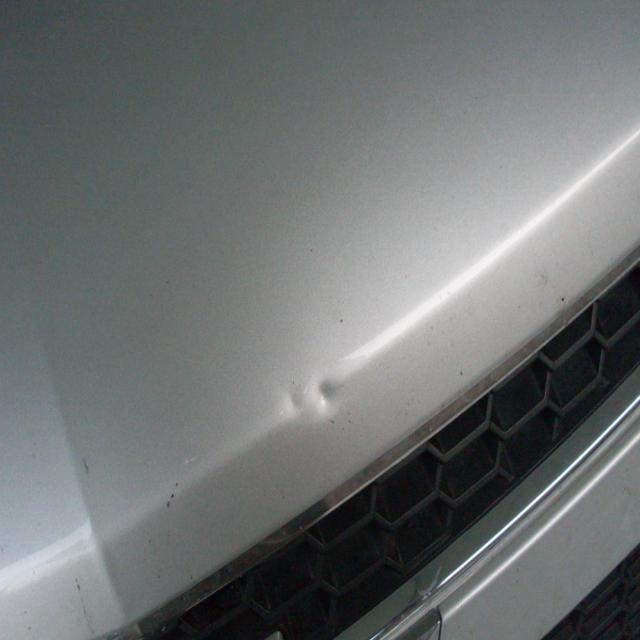dents: (282, 380, 356, 428)
